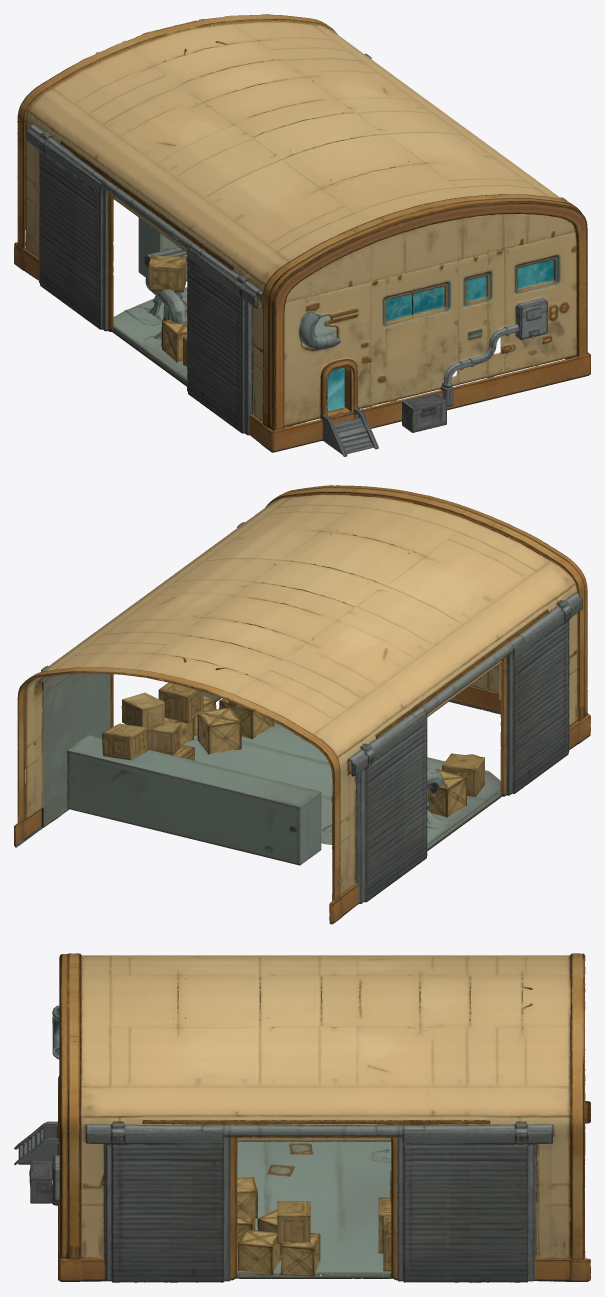
File: sklad-angar.glb
3 renders of one model, top to bottom at view 1: azimuth 30°, elevation 25°; view 2: azimuth 150°, elevation 25°; view 3: azimuth 270°, elevation 25°, orthographic. The views are drawn at different scales.
Parts seen in each view (by area): view 1: geometry_0; view 2: geometry_0; view 3: geometry_0.
Part boxes in pixels (x1,y1,x2,y2): geometry_0: (14,14,590,456); geometry_0: (14,485,590,924); geometry_0: (14,953,590,1282).
Bounding box in the file's own units: 0.6825 × 0.3991 × 1.
Materials: 1 (1 with a texture image).
